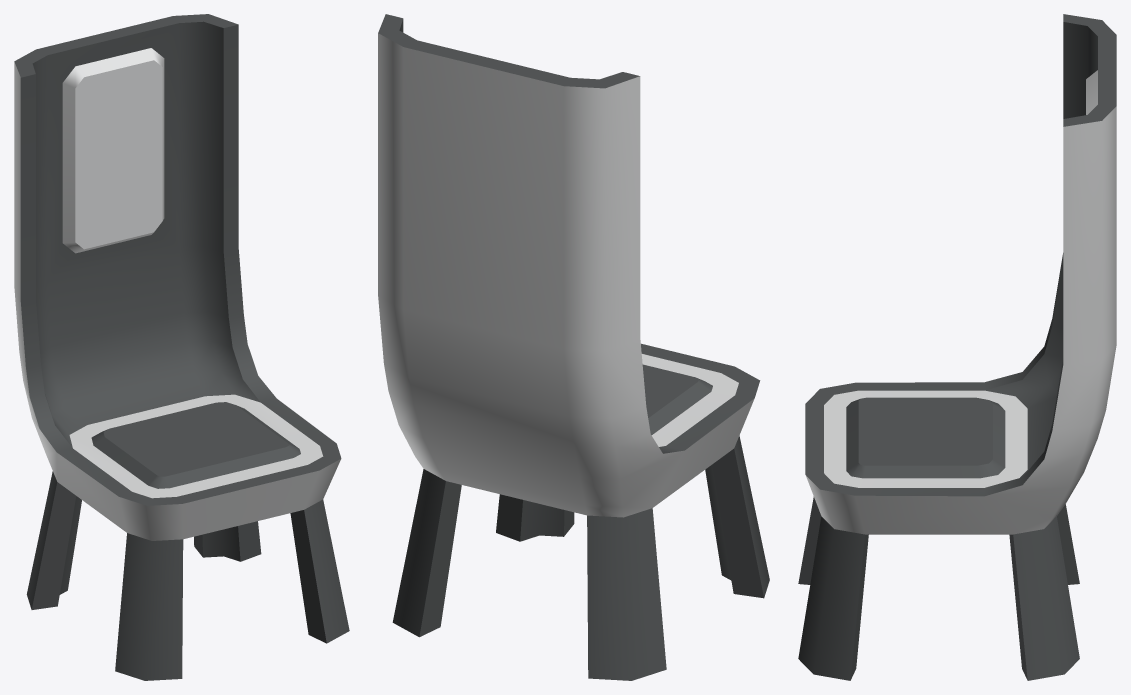
Rendered from Chair_009.fbx.
The picture shows the model from 3 angles, left to right: view 1: azimuth 30°, elevation 25°; view 2: azimuth 150°, elevation 25°; view 3: azimuth 270°, elevation 25°; orthographic projection. The views are drawn at different scales.
Parts seen in each view (by area): view 1: Chair_009; view 2: Chair_009; view 3: Chair_009.
Boxes of the visible parts, box(x1,y1,x2,y2) form: Chair_009: box(14, 14, 349, 680); Chair_009: box(378, 14, 769, 680); Chair_009: box(798, 14, 1116, 680).
Size of the model in its own units: 64.31 by 72.7 by 139.
